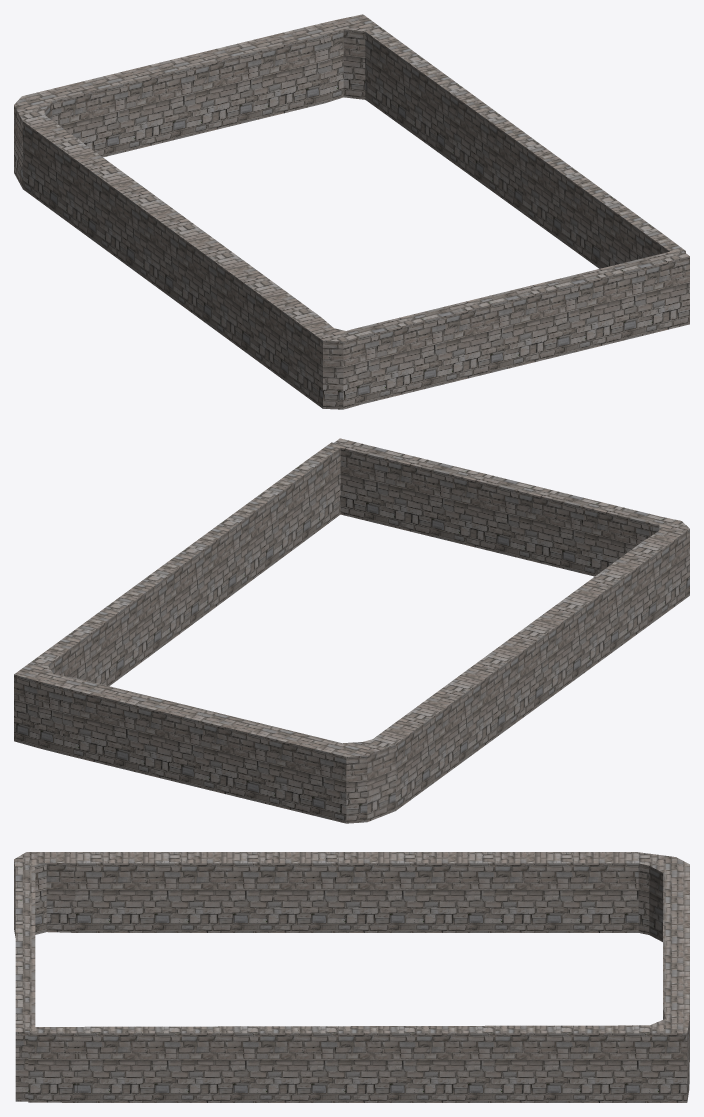
The model's file is InnerSquare_LevelB.fbx.
3 renders of one model, top to bottom at view 1: azimuth 30°, elevation 25°; view 2: azimuth 150°, elevation 25°; view 3: azimuth 270°, elevation 25°, orthographic. The views are drawn at different scales.
Visible parts, largest first — view 1: InnerSquare; view 2: InnerSquare; view 3: InnerSquare.
Part boxes in pixels (<box>): InnerSquare: <box>14,14,689,409</box>; InnerSquare: <box>14,438,689,823</box>; InnerSquare: <box>14,852,689,1102</box>.
Size of the model in its own units: 2189 by 391 by 3450.
Materials: 1 (1 with a texture image).
